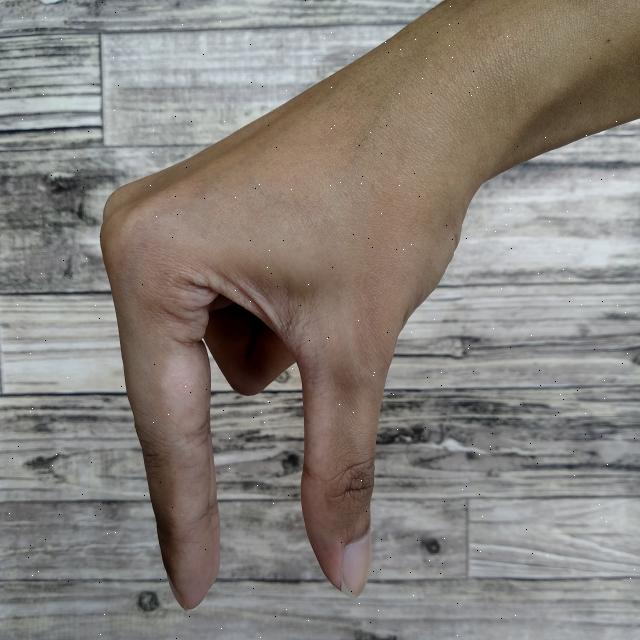Q: (97, 0, 640, 612)
